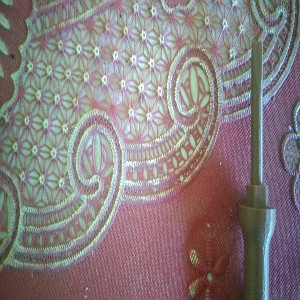obeng: (237, 39, 277, 300)
